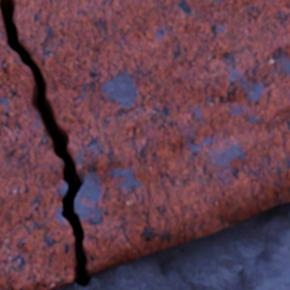brick: (0, 0, 289, 275), (0, 11, 76, 289)
crack: (0, 1, 92, 288)
